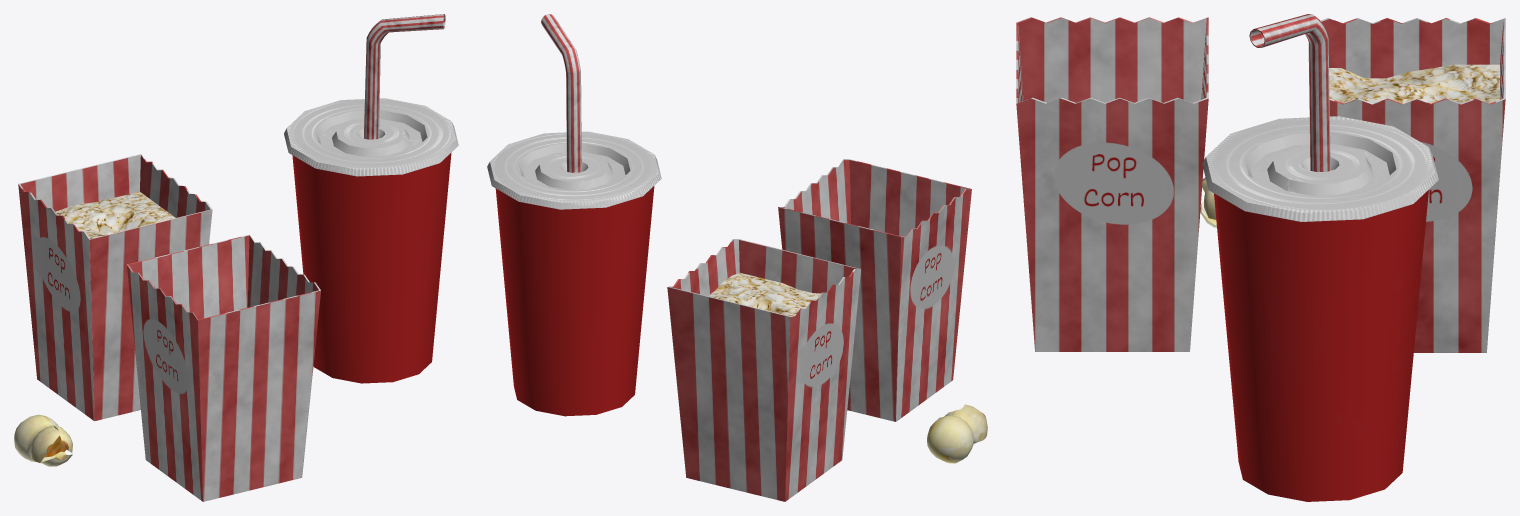
Rendered from cinema_snacks.glb.
3 views of the same model, side by side, from view 1: azimuth 30°, elevation 25°; view 2: azimuth 150°, elevation 25°; view 3: azimuth 270°, elevation 25° (orthographic). The views are drawn at different scales.
Parts seen in each view (by area): view 1: EmptyPopcorn_low, Cylinder001, FullPopcorn_low, Sphere001_01 - Popcorn_0; view 2: Cylinder001, FullPopcorn_low, EmptyPopcorn_low, Sphere001_01 - Popcorn_0; view 3: Cylinder001, EmptyPopcorn_low, FullPopcorn_low.
Boxes of the visible parts, box(x1,y1,x2,y2) form: EmptyPopcorn_low: box(127, 234, 320, 501); Cylinder001: box(284, 14, 458, 383); FullPopcorn_low: box(18, 154, 212, 421); Sphere001_01 - Popcorn_0: box(14, 414, 72, 466); Cylinder001: box(487, 14, 661, 416); FullPopcorn_low: box(667, 239, 861, 501); EmptyPopcorn_low: box(778, 159, 971, 421); Sphere001_01 - Popcorn_0: box(927, 404, 987, 463); Cylinder001: box(1202, 14, 1438, 501); EmptyPopcorn_low: box(1016, 17, 1208, 351); FullPopcorn_low: box(1320, 18, 1505, 352).
Bounding box in the file's own units: 1.39 × 1.03 × 0.9658.
Materials: 4 (4 with a texture image).
